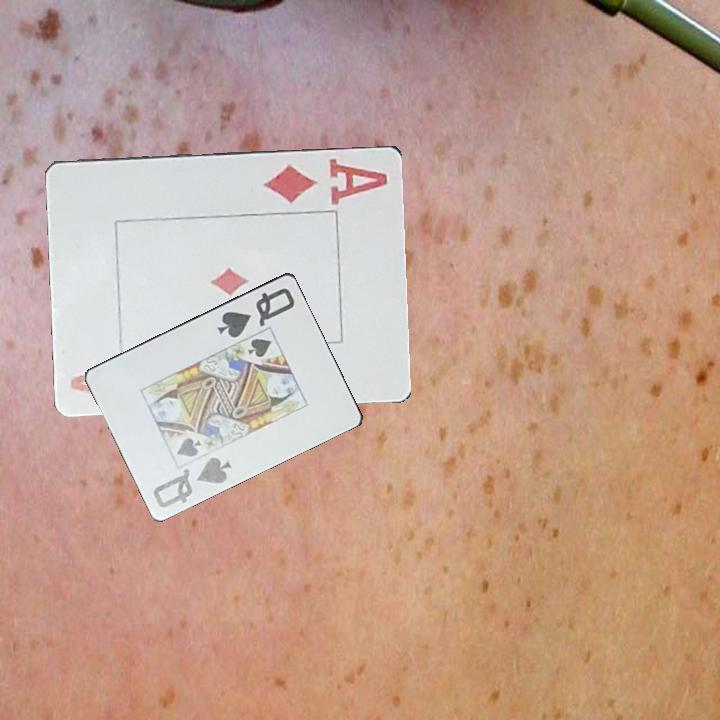Ad: (260, 154, 391, 207)
Qs: (150, 451, 234, 510), (213, 284, 298, 341)
